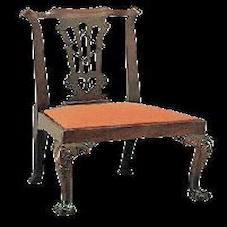chair: (14, 4, 214, 220)
